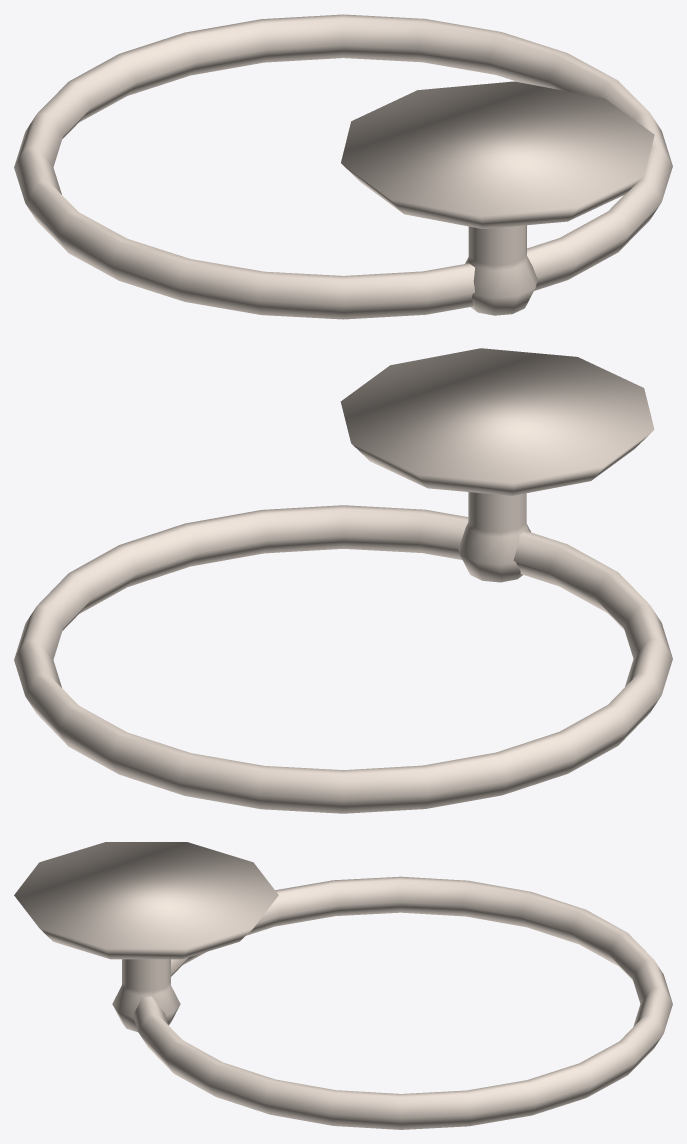
File: HandtowelholdermeshFp401_Cylinder_055_0.obj
The picture shows the model from 3 angles, top to bottom: view 1: azimuth 30°, elevation 25°; view 2: azimuth 150°, elevation 25°; view 3: azimuth 270°, elevation 25°; orthographic projection. The views are drawn at different scales.
Visible parts, largest first — view 1: Fp401_Cylinder_055; view 2: Fp401_Cylinder_055; view 3: Fp401_Cylinder_055.
Part boxes in pixels (x1,y1,x2,y2): Fp401_Cylinder_055: [14, 14, 672, 319]; Fp401_Cylinder_055: [14, 348, 672, 813]; Fp401_Cylinder_055: [14, 842, 672, 1129].
Bounding box in the file's own units: 0.1696 × 0.0438 × 0.2055.
